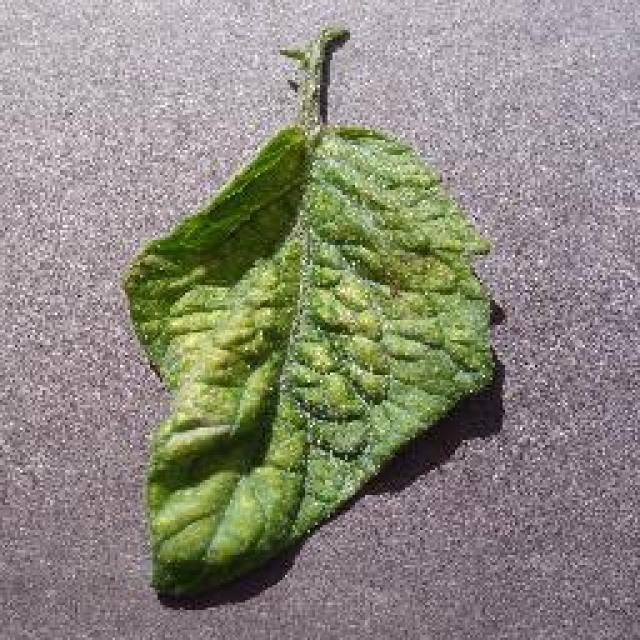Tomato___Spider_mites Two-spotted_spider_mite: (125, 30, 490, 592)
